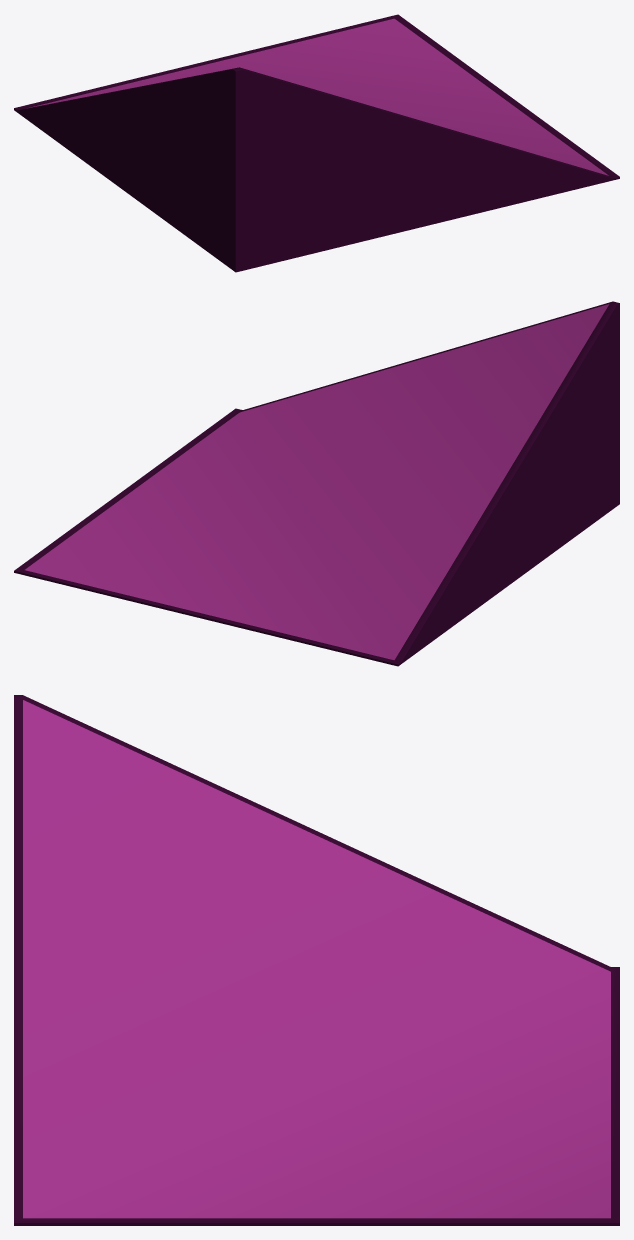
Rendered from Casilla 27.fbx.
3 renders of one model, top to bottom at view 1: azimuth 30°, elevation 25°; view 2: azimuth 150°, elevation 25°; view 3: azimuth 270°, elevation 25°, orthographic. The views are drawn at different scales.
Parts seen in each view (by area): view 1: pCube6; view 2: pCube6; view 3: pCube6.
Boxes of the visible parts, x1=… form: pCube6: x1=14, y1=14, x2=619, y2=272; pCube6: x1=14, y1=301, x2=619, y2=666; pCube6: x1=14, y1=695, x2=619, y2=1225.
Size of the model in its own units: 200 by 100 by 200.
